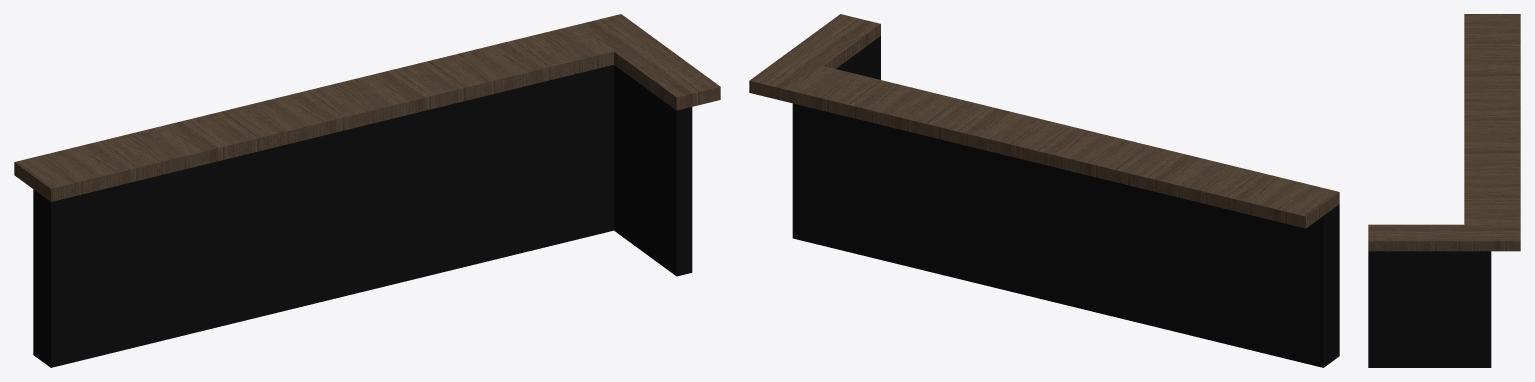
File: MSH_Barra_Area_Comun.FBX
3 renders of one model, left to right at view 1: azimuth 30°, elevation 25°; view 2: azimuth 150°, elevation 25°; view 3: azimuth 270°, elevation 25°, orthographic. The views are drawn at different scales.
Visible parts, largest first — view 1: MSH_Barra_Area_Comun; view 2: MSH_Barra_Area_Comun; view 3: MSH_Barra_Area_Comun.
Boxes of the visible parts, left/top/right/bottom form: MSH_Barra_Area_Comun: left=14, top=14, right=720, bottom=367; MSH_Barra_Area_Comun: left=749, top=14, right=1339, bottom=367; MSH_Barra_Area_Comun: left=1368, top=14, right=1520, bottom=367.
Bounding box in the file's own units: 412 × 116 × 117.
